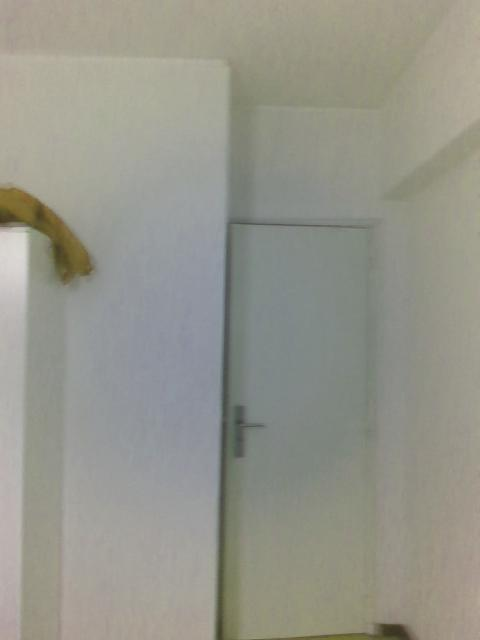closed_door: (217, 222, 386, 638)
